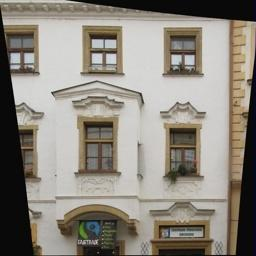building: (0, 0, 231, 256)
